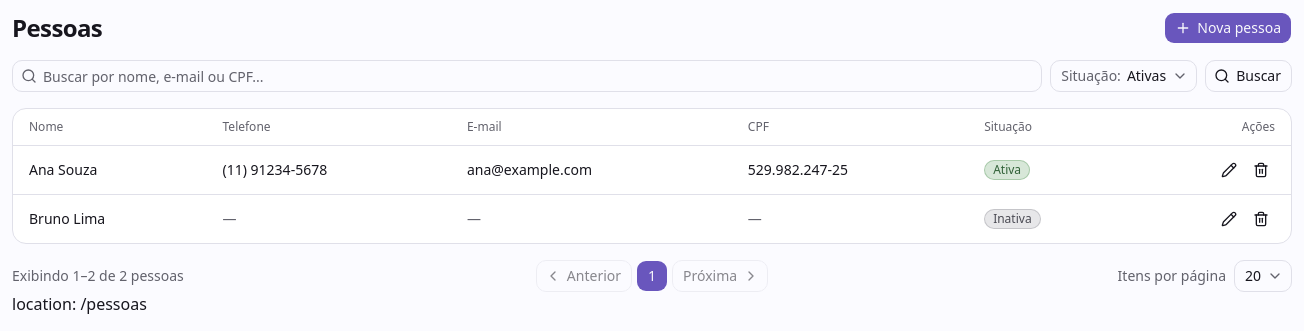
Test: ClientListPage › searches from the Buscar button too
The image size is (1304, 331).
Expected: the link "Ana Souza" is shown, [29, 160, 97, 179]
In the field named "Buscar pessoas por nome, e-mail ou CPF": (539, 76) [37, 60, 1041, 92], type "bruno"
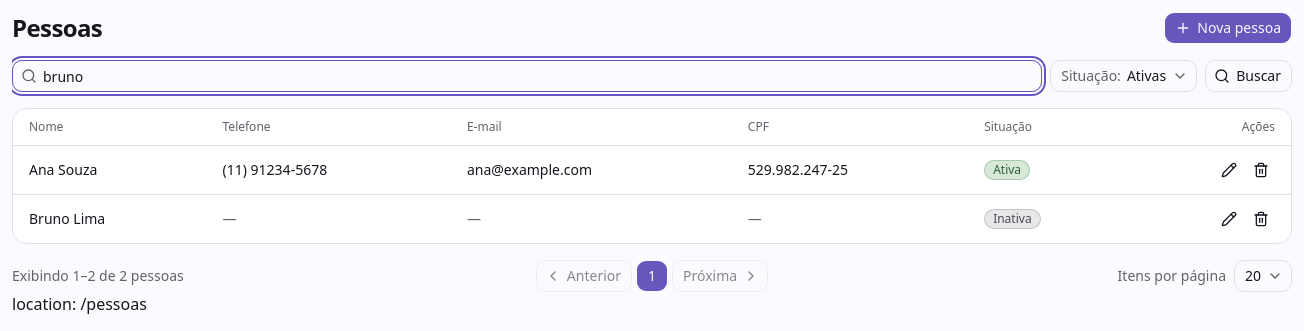
Click the button "Buscar": (1249, 76) [1205, 60, 1292, 92]
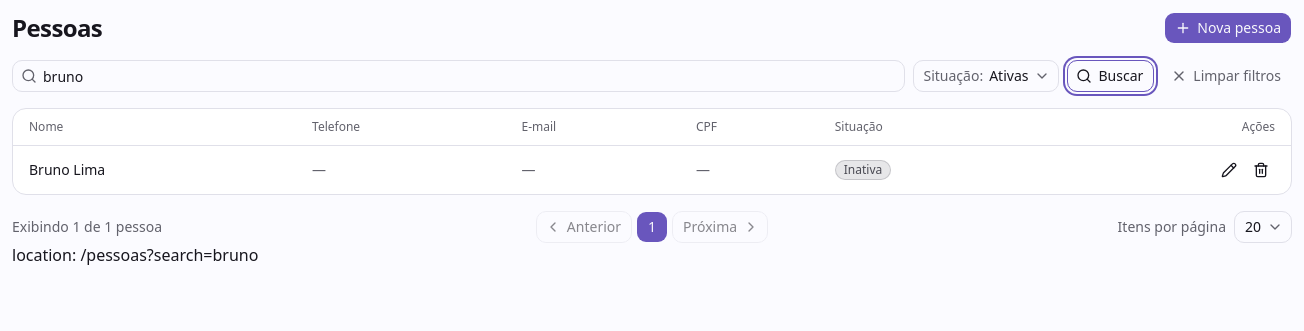
Expected: the link "Bruno Lima" is shown, [29, 160, 105, 179]
Result: the link "Ana Souza" is gone
